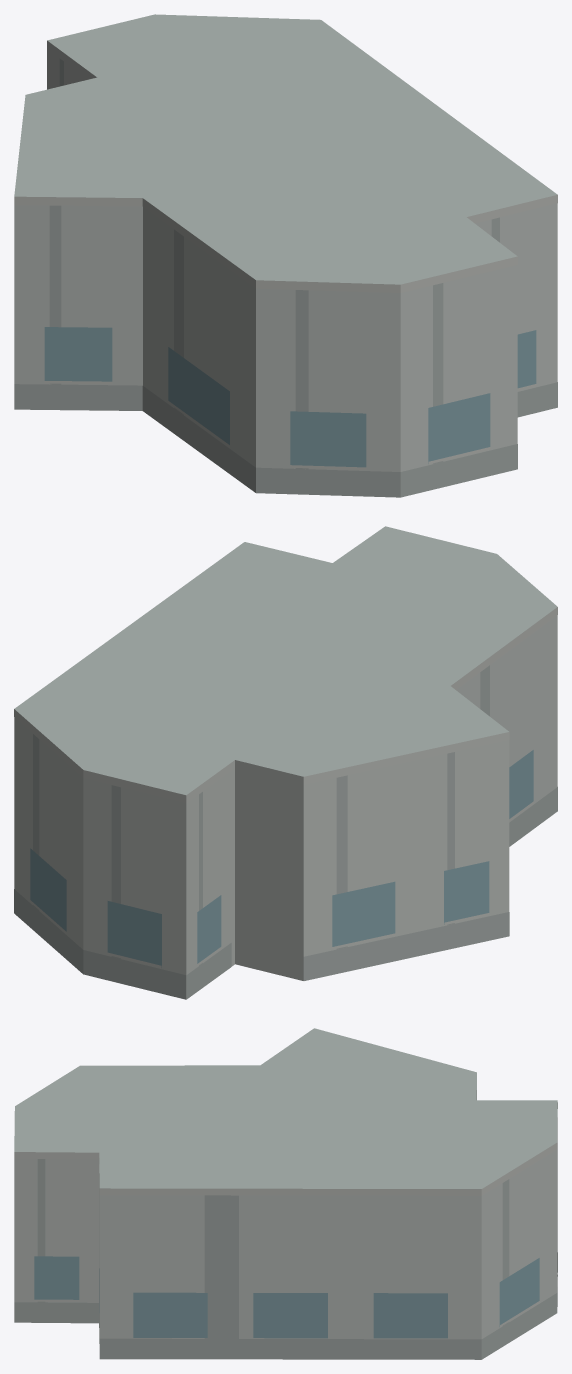
File: survey-upis-32946185.glb
3 renders of one model, top to bottom at view 1: azimuth 30°, elevation 25°; view 2: azimuth 150°, elevation 25°; view 3: azimuth 270°, elevation 25°, orthographic. The views are drawn at different scales.
Visible parts, largest first — view 1: survey-upis-32946185.tmp; view 2: survey-upis-32946185.tmp; view 3: survey-upis-32946185.tmp.
Part boxes in pixels (box(x1,y1,x2,y2)): survey-upis-32946185.tmp: box(14, 14, 557, 497); survey-upis-32946185.tmp: box(14, 526, 557, 999); survey-upis-32946185.tmp: box(14, 1028, 557, 1359).
Bounding box in the file's own units: 12.35 × 6.1 × 17.63.
